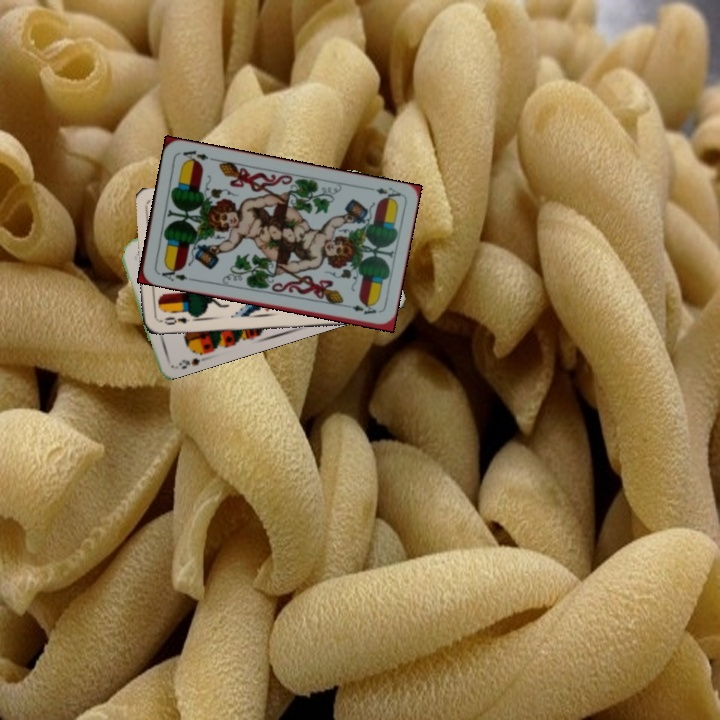EA: (363, 183, 403, 204), (154, 262, 190, 284)
EO: (156, 313, 192, 327)
S9: (175, 345, 208, 372)
